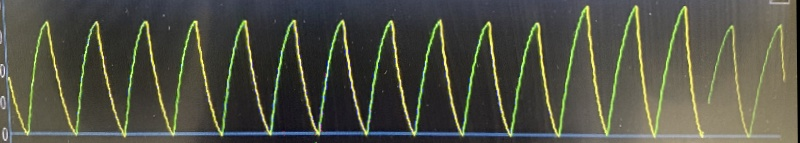normal_volume: (11, 11, 771, 139)
